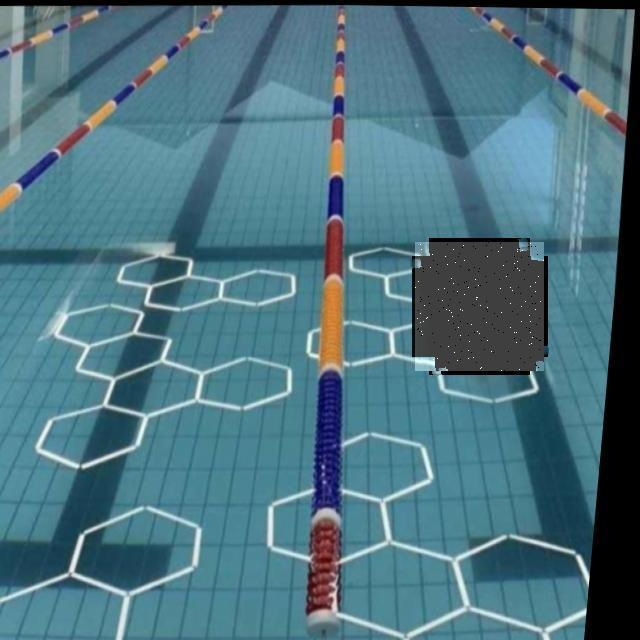swimming: (415, 242, 544, 371)
